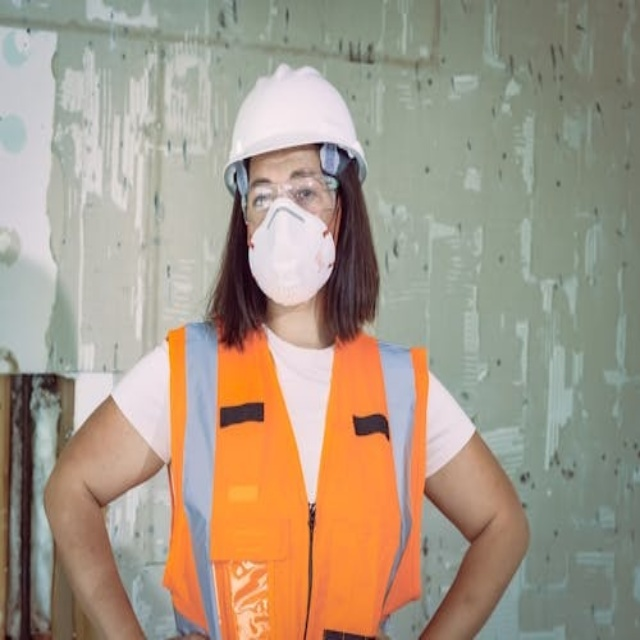Gafas: (239, 171, 340, 229)
Mascara: (246, 195, 337, 306)
